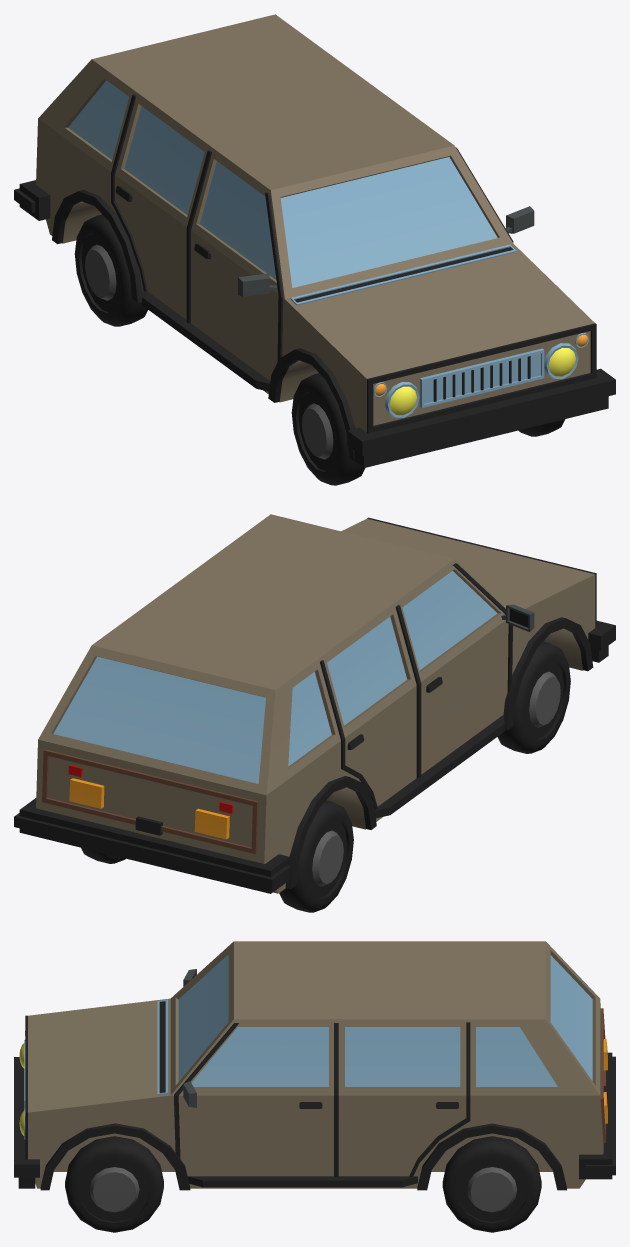
Rendered from Car 05.fbx.
3 views of the same model, one above another, from view 1: azimuth 30°, elevation 25°; view 2: azimuth 150°, elevation 25°; view 3: azimuth 270°, elevation 25° (orthographic). The views are drawn at different scales.
Parts seen in each view (by area): view 1: F R Wheel; view 2: F R Wheel; view 3: F R Wheel.
Part boxes in pixels (x1,y1,x2,y2): F R Wheel: (14, 14, 615, 485); F R Wheel: (14, 514, 615, 912); F R Wheel: (14, 941, 615, 1232).
Bounding box in the file's own units: 232 × 180 × 476.
1 material, 1 textured.
